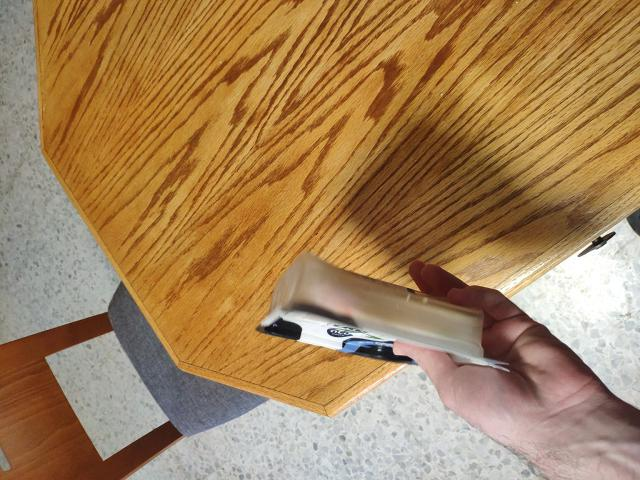cheese: (266, 231, 486, 420)
